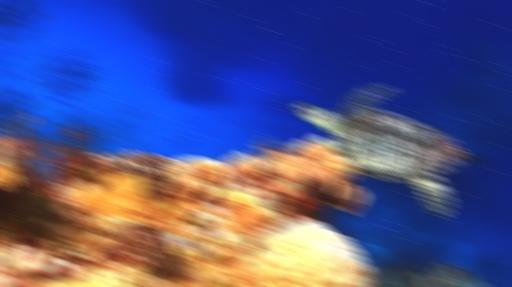Fish: (295, 84, 474, 217)
